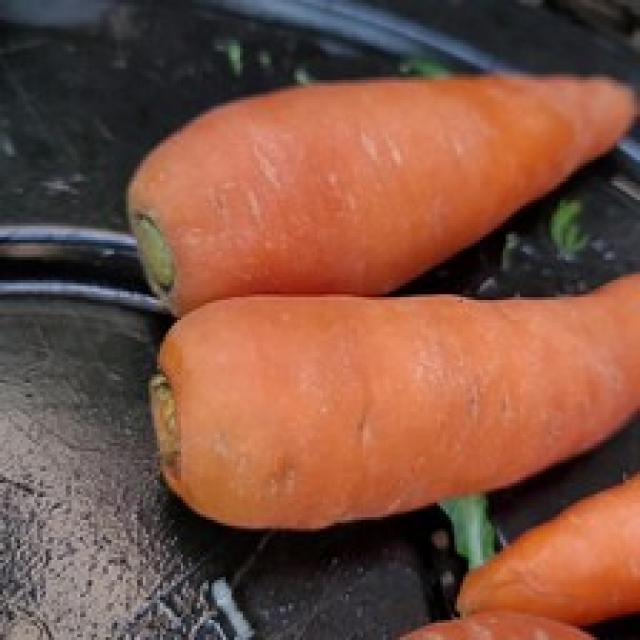carrot: (147, 263, 640, 534), (136, 72, 637, 297)
